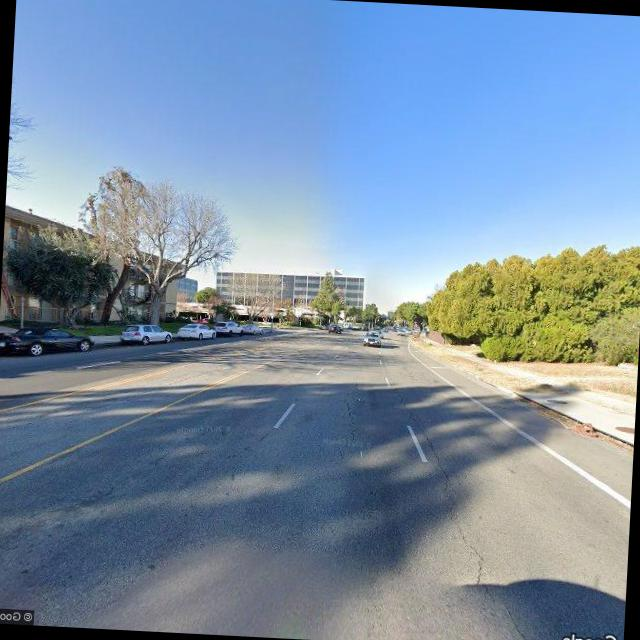pothole: (443, 501, 535, 633), (392, 391, 458, 482), (340, 386, 368, 452)
